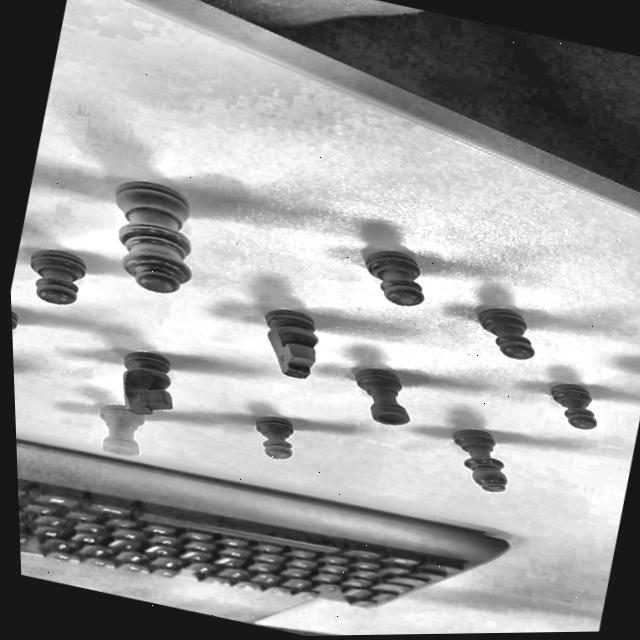black-bishop: (428, 417, 527, 501)
black-knight: (236, 292, 334, 387), (102, 339, 190, 422)
black-pawn: (345, 235, 447, 316), (452, 293, 557, 369), (9, 234, 102, 315), (527, 368, 620, 440), (228, 396, 306, 468), (11, 299, 28, 362)
black-queen: (87, 168, 223, 307)
black-rook: (327, 355, 424, 431), (83, 395, 153, 461)
